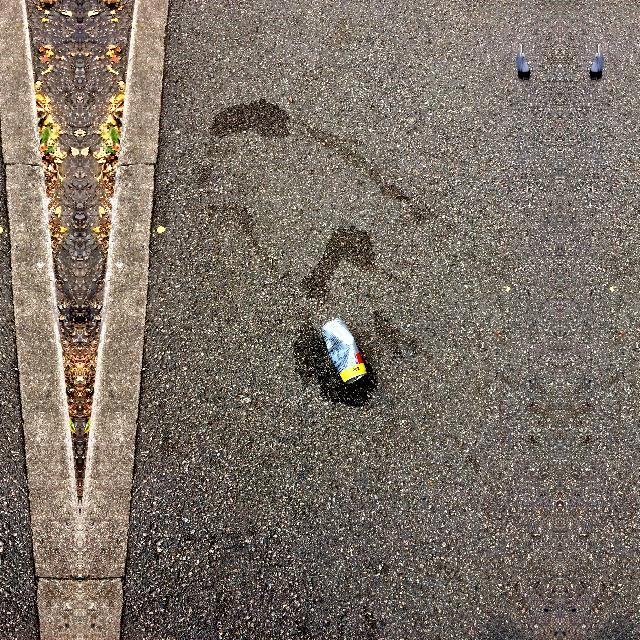Metal: (319, 316, 369, 384)
